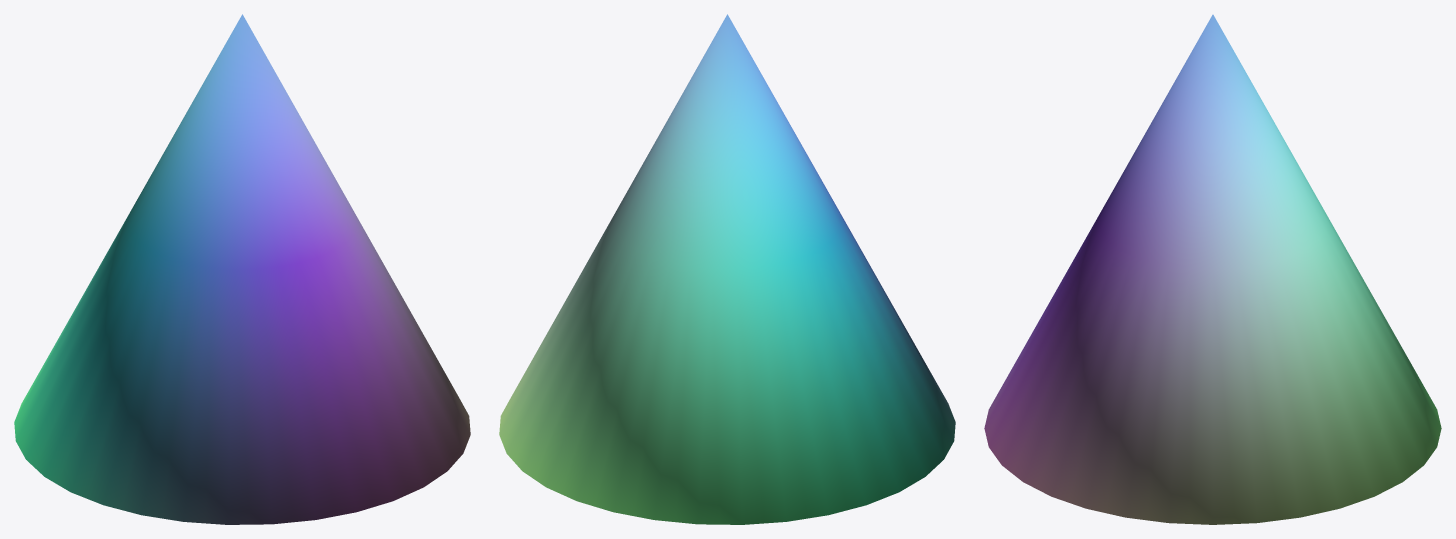
3 renders of one model, left to right at view 1: azimuth 30°, elevation 25°; view 2: azimuth 150°, elevation 25°; view 3: azimuth 270°, elevation 25°, orthographic.
Visible parts, largest first — view 1: Cone; view 2: Cone; view 3: Cone.
Boxes of the visible parts, <box> form: Cone: <box>14,14,470,524</box>; Cone: <box>499,14,955,524</box>; Cone: <box>984,14,1441,524</box>.
Bounding box in the file's own units: 200 × 200 × 200.
